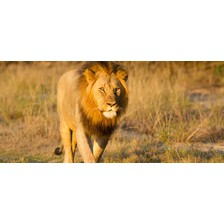lion: (55, 61, 129, 163)
